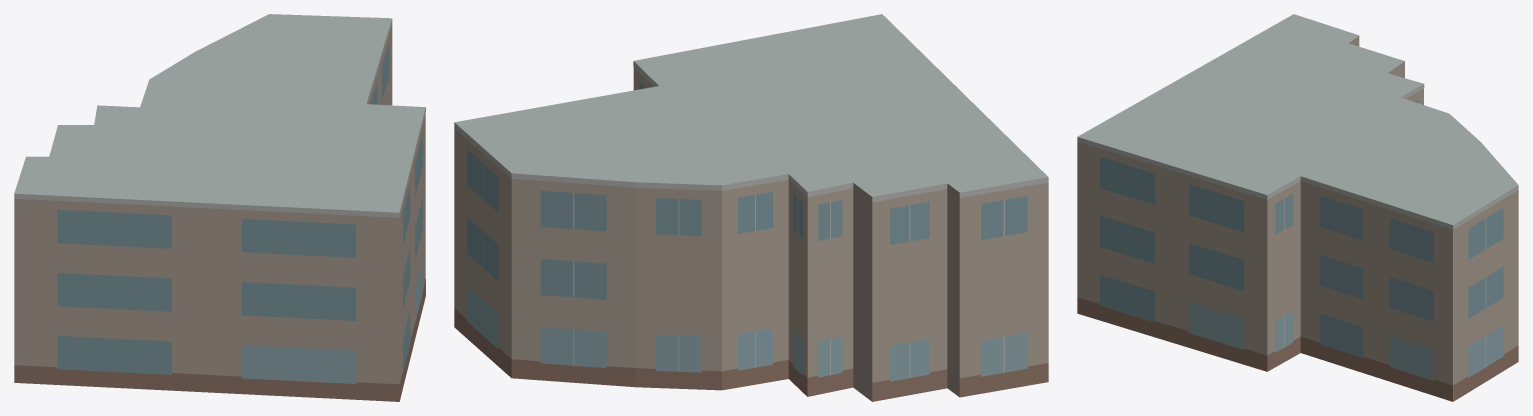
The model's file is survey-upis-33003058.glb.
The picture shows the model from 3 angles, left to right: view 1: azimuth 30°, elevation 25°; view 2: azimuth 150°, elevation 25°; view 3: azimuth 270°, elevation 25°; orthographic projection. The views are drawn at different scales.
Parts seen in each view (by area): view 1: survey-upis-33003058.tmp; view 2: survey-upis-33003058.tmp; view 3: survey-upis-33003058.tmp.
Boxes of the visible parts, left/top/right/bottom form: survey-upis-33003058.tmp: left=14, top=14, right=425, bottom=401; survey-upis-33003058.tmp: left=454, top=14, right=1048, bottom=401; survey-upis-33003058.tmp: left=1077, top=14, right=1518, bottom=401.
Bounding box in the file's own units: 23.47 × 9.15 × 20.72.
